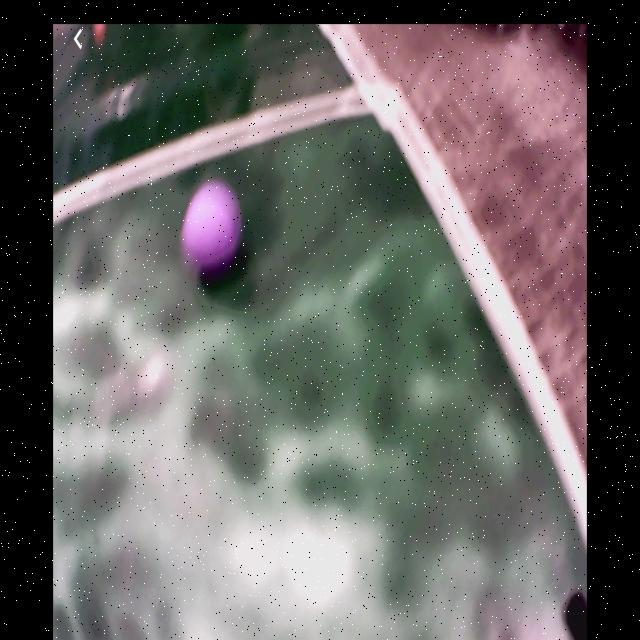ball: (188, 181, 239, 268)
